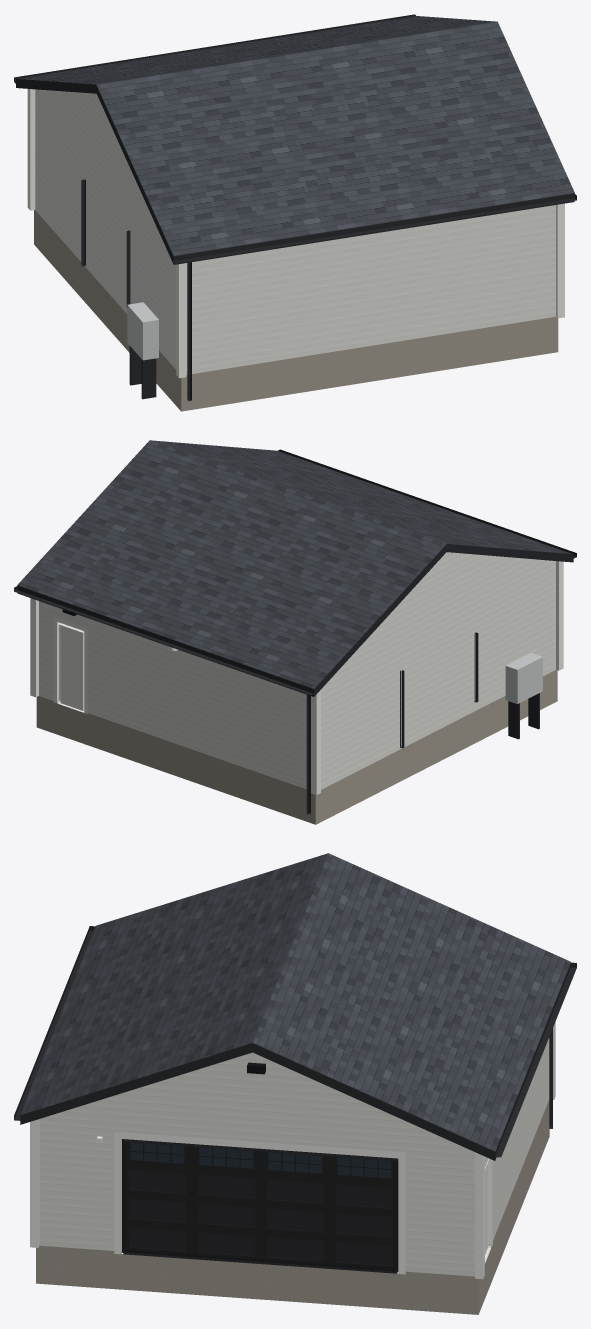
File: garage_detached.glb
The picture shows the model from 3 angles, top to bottom: view 1: azimuth 30°, elevation 25°; view 2: azimuth 150°, elevation 25°; view 3: azimuth 270°, elevation 25°; orthographic projection. The views are drawn at different scales.
Visible parts, largest first — view 1: detached_garage_roof, detached_garage_walls, detached_garage_walls_foundation_grey, dg_gutters, dg_corner_boards, detached_garage_fascia, dg_minisplit, dg_minisplit_stand, dg_lineset, dg_downspouts; view 2: detached_garage_roof, detached_garage_walls, detached_garage_walls_foundation_grey, detached_garage_fascia, dg_corner_boards, dg_gutters, dg_man_door_slab, dg_minisplit, dg_minisplit_stand, dg_man_door_casing, dg_lineset, dg_man_door_frame (+1 smaller); view 3: detached_garage_roof, detached_garage_walls, detached_garage_walls_foundation_grey, dg_overhead_door_slab, dg_door_lattice, detached_garage_fascia, dg_overhead_door_casing, dg_door_glass, dg_overhead_door_frame, dg_corner_boards, dg_gutters.
Part boxes in pixels (x1=…): detached_garage_roof: x1=17, y1=16, x2=574, y2=256; detached_garage_walls: x1=35, y1=89, x2=555, y2=374; detached_garage_walls_foundation_grey: x1=34, y1=210, x2=558, y2=411; dg_gutters: x1=14, y1=14, x2=576, y2=263; dg_corner_boards: x1=27, y1=89, x2=564, y2=378; detached_garage_fascia: x1=16, y1=79, x2=574, y2=264; dg_minisplit: x1=127, y1=302, x2=158, y2=360; dg_minisplit_stand: x1=129, y1=346, x2=156, y2=399; dg_lineset: x1=81, y1=179, x2=130, y2=307; dg_downspouts: x1=187, y1=262, x2=191, y2=401; detached_garage_roof: x1=17, y1=440, x2=573, y2=688; detached_garage_walls: x1=39, y1=552, x2=555, y2=789; detached_garage_walls_foundation_grey: x1=36, y1=670, x2=557, y2=824; detached_garage_fascia: x1=17, y1=544, x2=573, y2=696; dg_corner_boards: x1=30, y1=561, x2=563, y2=794; dg_gutters: x1=14, y1=449, x2=576, y2=695; dg_man_door_slab: x1=60, y1=625, x2=82, y2=710; dg_minisplit: x1=505, y1=653, x2=542, y2=703; dg_minisplit_stand: x1=508, y1=693, x2=539, y2=739; dg_man_door_casing: x1=53, y1=617, x2=87, y2=714; dg_lineset: x1=400, y1=632, x2=478, y2=748; dg_man_door_frame: x1=57, y1=622, x2=84, y2=712; detached_garage_roof: x1=20, y1=853, x2=570, y2=1151; detached_garage_walls: x1=39, y1=1037, x2=549, y2=1276; detached_garage_walls_foundation_grey: x1=36, y1=1100, x2=549, y2=1314; dg_overhead_door_slab: x1=129, y1=1169, x2=392, y2=1265; dg_door_lattice: x1=124, y1=1141, x2=395, y2=1268; detached_garage_fascia: x1=20, y1=963, x2=570, y2=1160; dg_overhead_door_casing: x1=114, y1=1132, x2=405, y2=1274; dg_door_glass: x1=130, y1=1142, x2=391, y2=1178; dg_overhead_door_frame: x1=122, y1=1139, x2=398, y2=1273; dg_corner_boards: x1=30, y1=1022, x2=555, y2=1279; dg_gutters: x1=14, y1=926, x2=576, y2=1157.
Size of the model in its own units: 10.09 by 5.64 by 10.7.
Materials: 13 (4 with a texture image).
